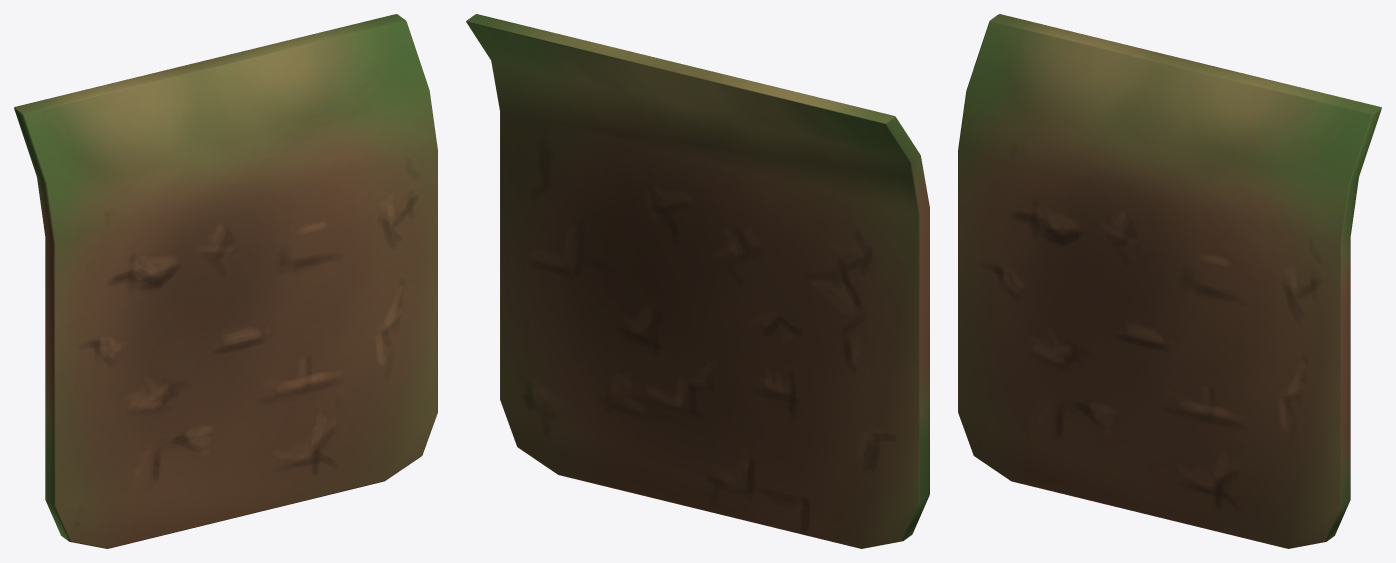
File: wall.fbx
3 views of the same model, side by side, from view 1: azimuth 30°, elevation 25°; view 2: azimuth 150°, elevation 25°; view 3: azimuth 330°, elevation 25° (orthographic). The views are drawn at different scales.
Visible parts, largest first — view 1: Cube.007; view 2: Cube.007; view 3: Cube.007.
Part boxes in pixels (bbox=[...]): Cube.007: bbox=[14, 14, 437, 548]; Cube.007: bbox=[466, 14, 929, 548]; Cube.007: bbox=[958, 14, 1381, 548].
Bounding box in the file's own units: 1394 × 1476 × 259.
Materials: 1 (1 with a texture image).
